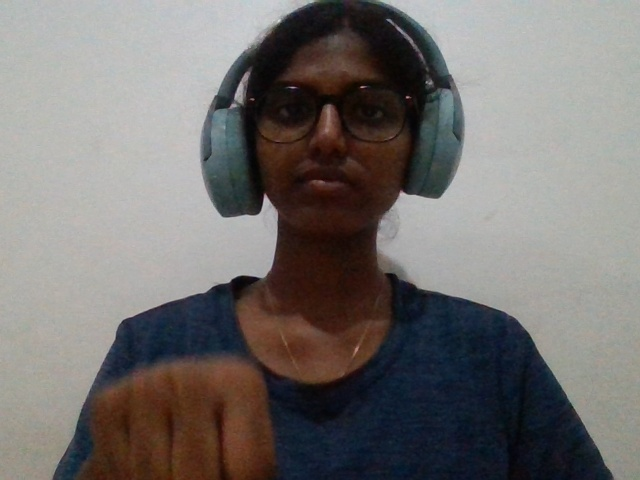Yes: (82, 358, 290, 474)
